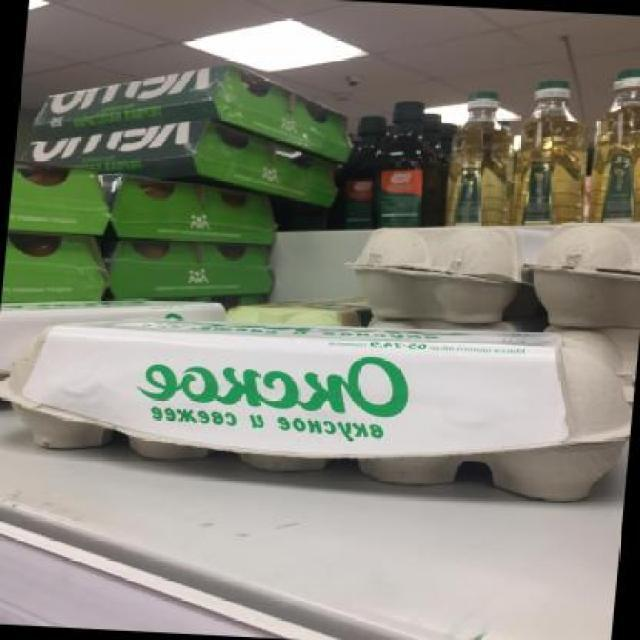Egg: (0, 303, 638, 506), (336, 213, 522, 326), (507, 64, 594, 231), (515, 216, 639, 333), (441, 76, 517, 233), (582, 54, 640, 232), (374, 92, 448, 231), (337, 106, 398, 232)
